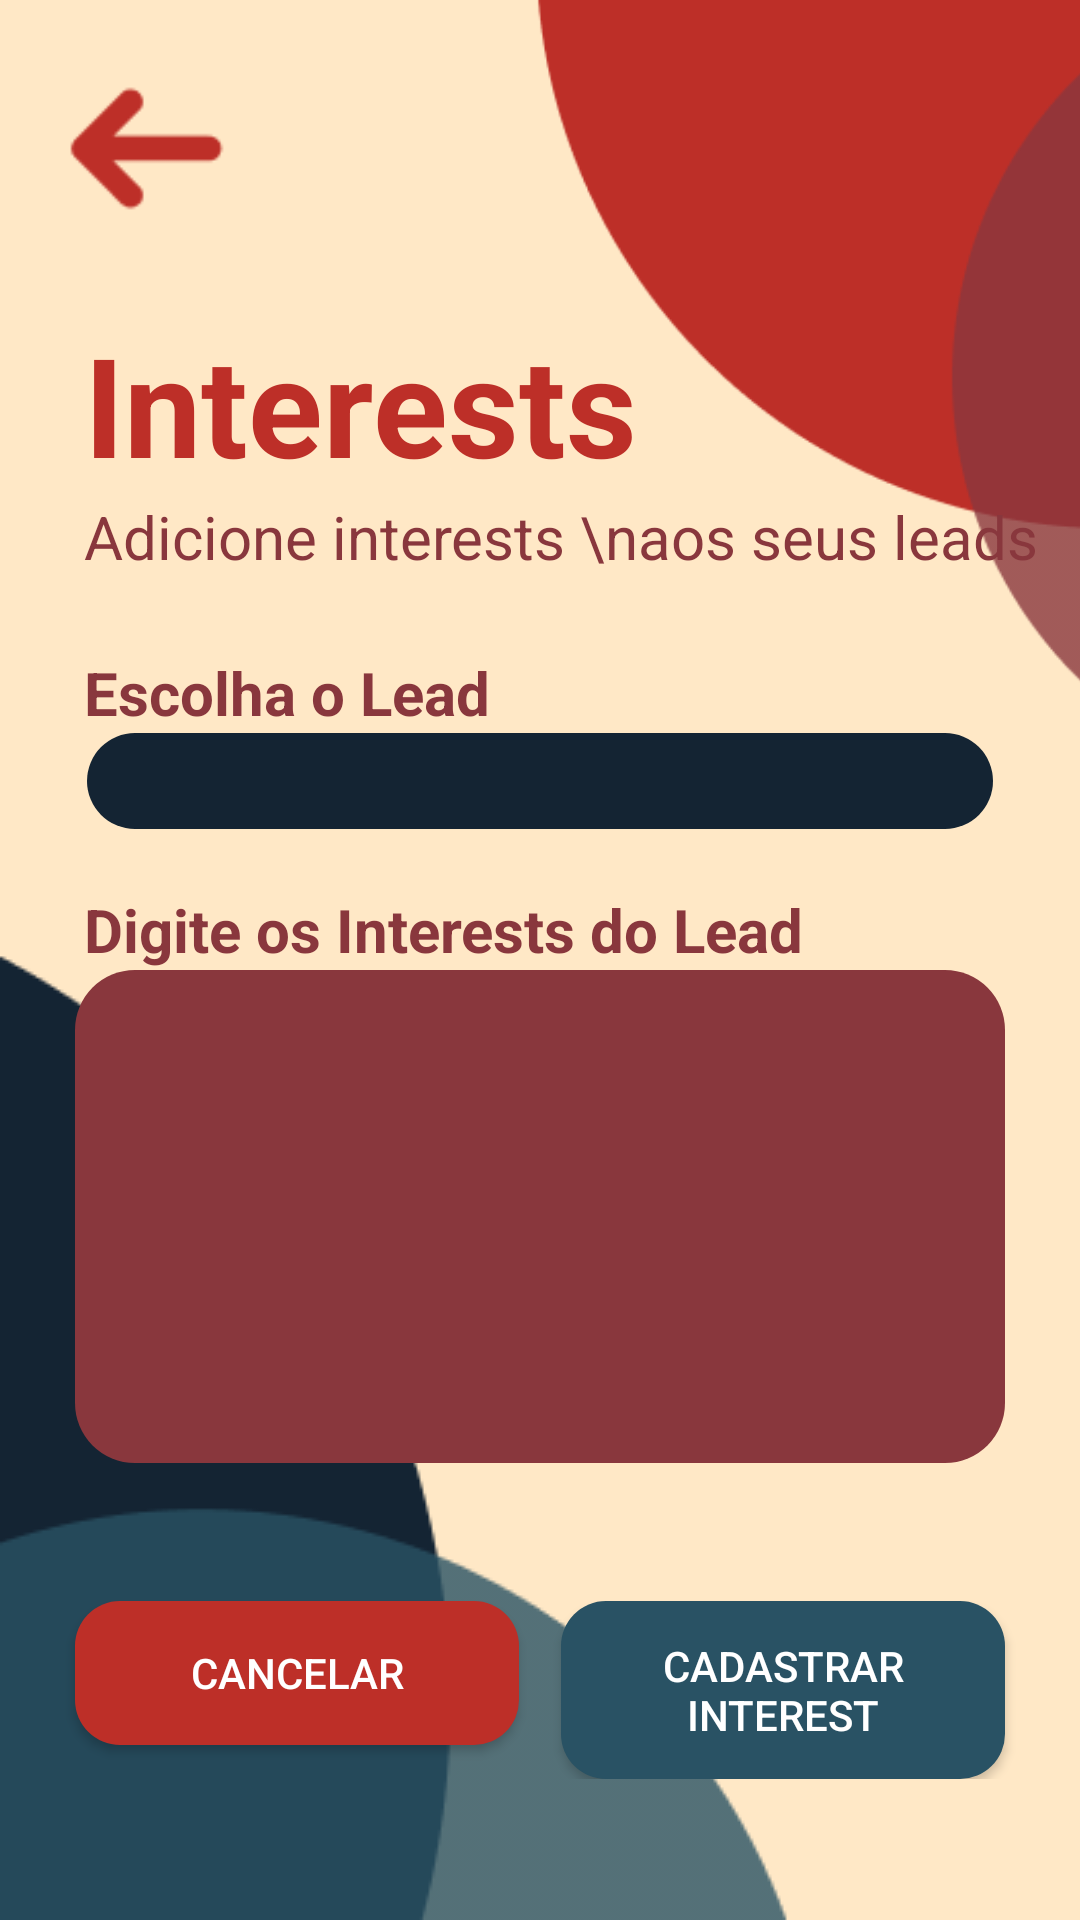

Point at icon controls on the screen. Image size 1080 × 1920, points as (x=x, y=y).
arrow: (x=146, y=148)
